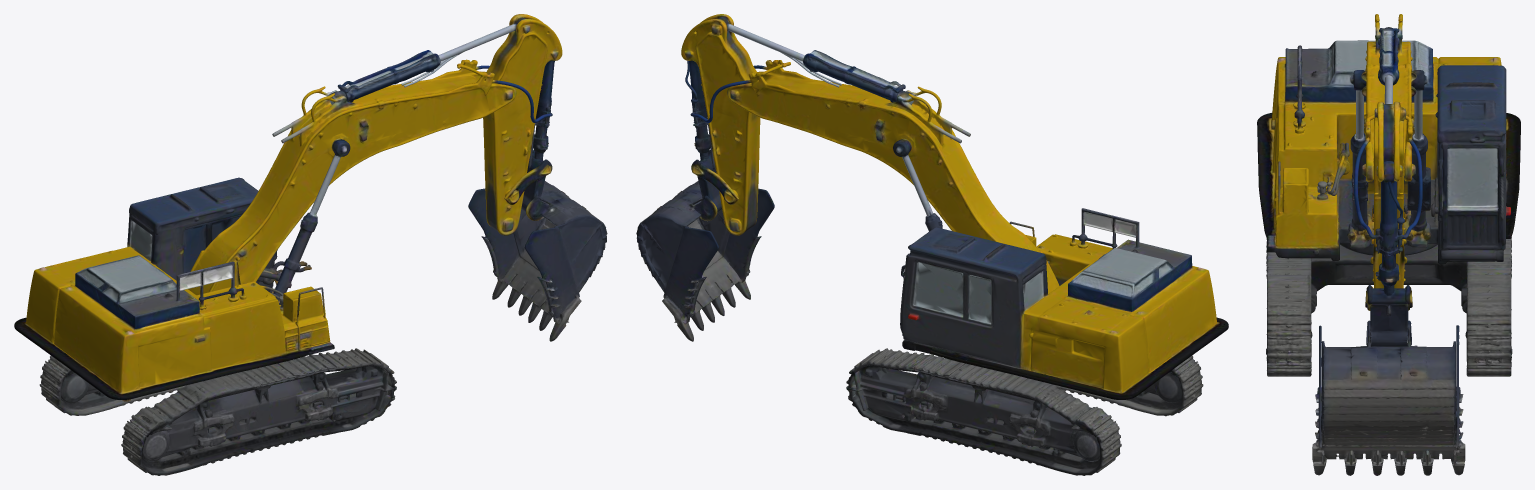
The model's file is tripo_pbr_model_056f077c-e0e5-4fc8-9e06-1e2d0d78fbd2_meshopt.glb.
3 views of the same model, side by side, from view 1: azimuth 30°, elevation 25°; view 2: azimuth 150°, elevation 25°; view 3: azimuth 270°, elevation 25° (orthographic). The views are drawn at different scales.
Parts seen in each view (by area): view 1: tripo_node_056f077c-e0e5-4fc8-9e06-1e2d0d78fbd2; view 2: tripo_node_056f077c-e0e5-4fc8-9e06-1e2d0d78fbd2; view 3: tripo_node_056f077c-e0e5-4fc8-9e06-1e2d0d78fbd2.
Part boxes in pixels (x1,y1,x2,y2): tripo_node_056f077c-e0e5-4fc8-9e06-1e2d0d78fbd2: [14, 14, 607, 475]; tripo_node_056f077c-e0e5-4fc8-9e06-1e2d0d78fbd2: [636, 14, 1228, 475]; tripo_node_056f077c-e0e5-4fc8-9e06-1e2d0d78fbd2: [1257, 14, 1520, 475].
Bounding box in the file's own units: 0.9808 × 0.5835 × 0.3524.
1 material, 1 textured.
